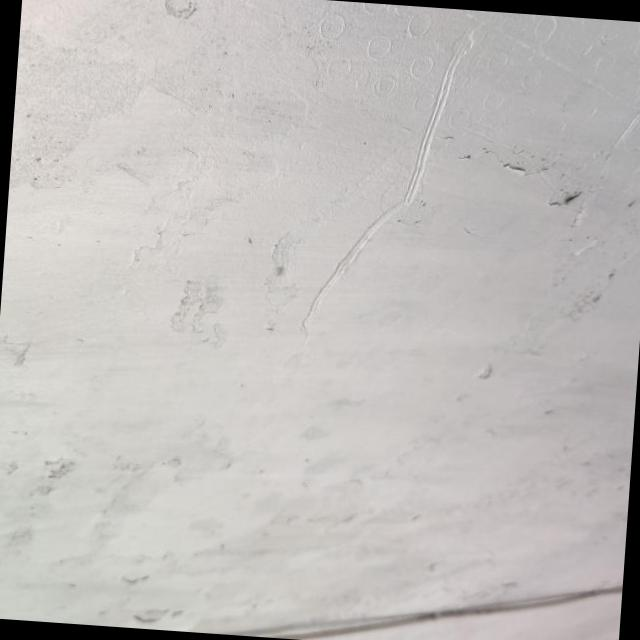Scratch: (301, 29, 475, 343)
